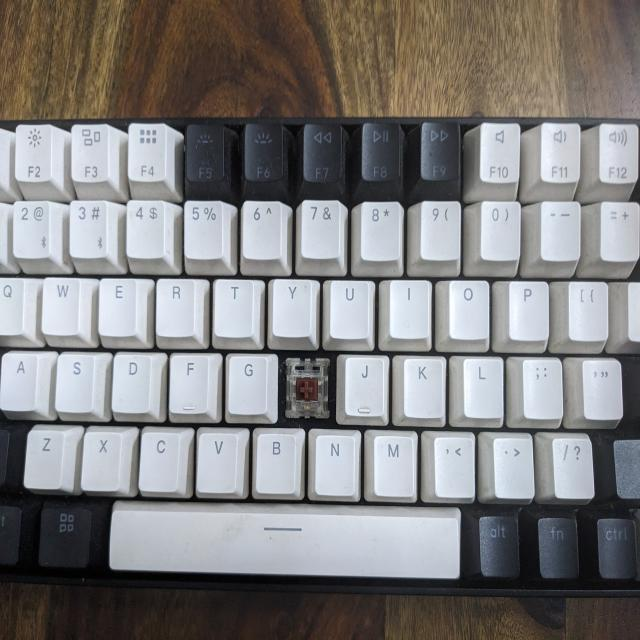key-switch: (284, 355, 330, 426)
